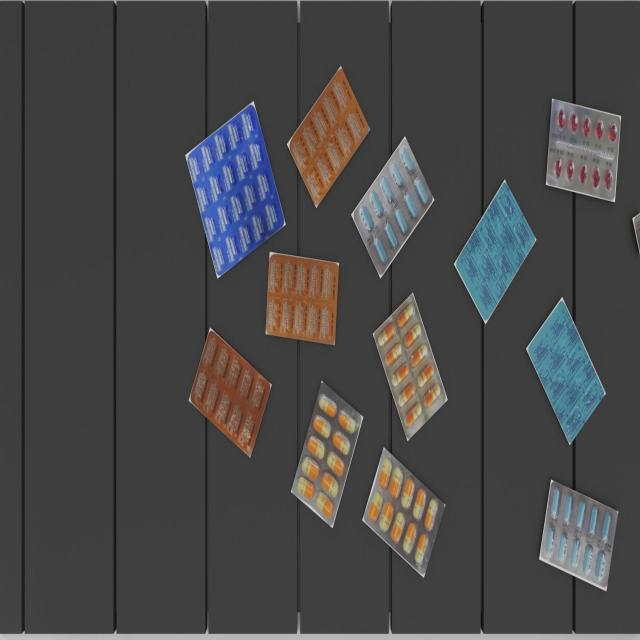blister: (188, 100, 285, 273), (454, 179, 536, 323), (526, 296, 605, 443), (352, 136, 434, 275), (373, 293, 447, 441), (363, 446, 446, 576), (290, 68, 367, 208), (190, 328, 272, 456), (291, 381, 361, 527), (540, 478, 618, 588), (545, 96, 621, 200), (267, 252, 339, 345)
